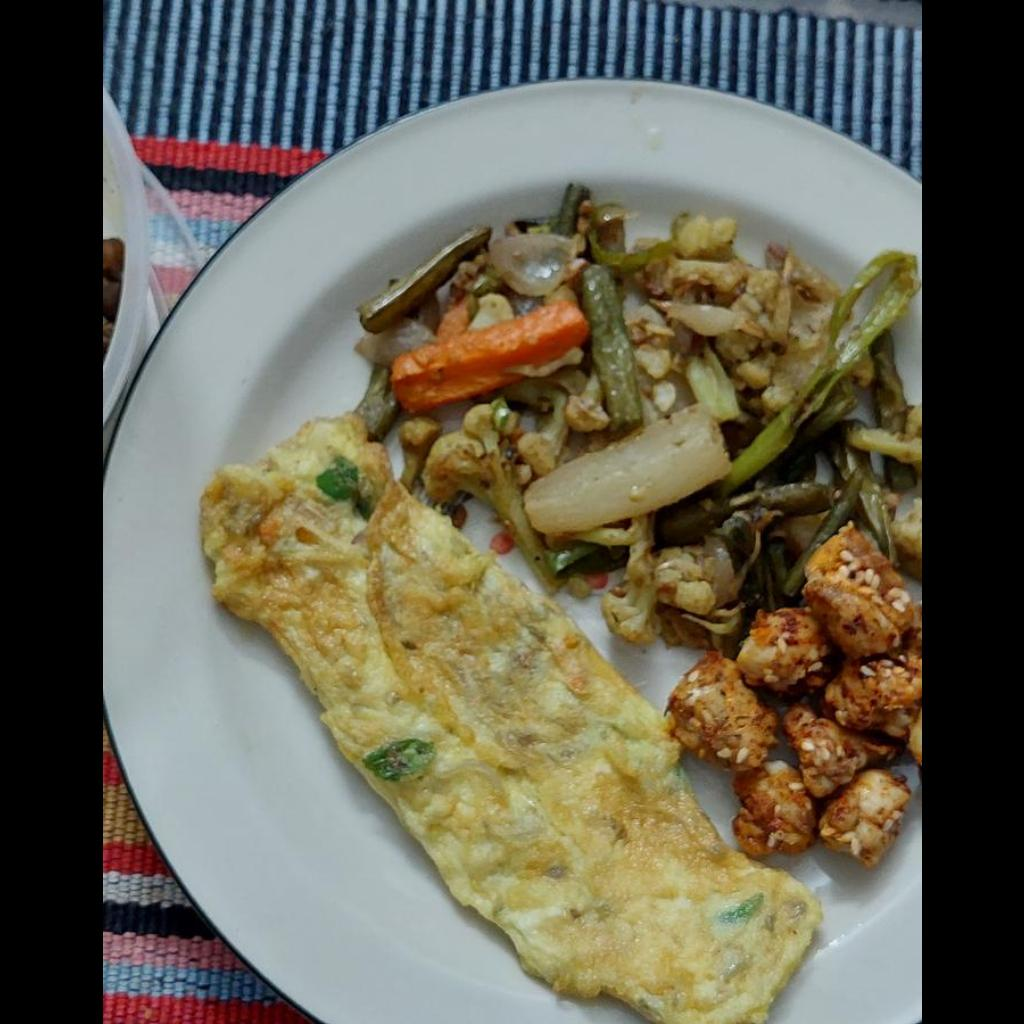chicken: (662, 535, 920, 869)
egg-poached: (191, 411, 814, 1023)
vegetable: (350, 179, 920, 644)
